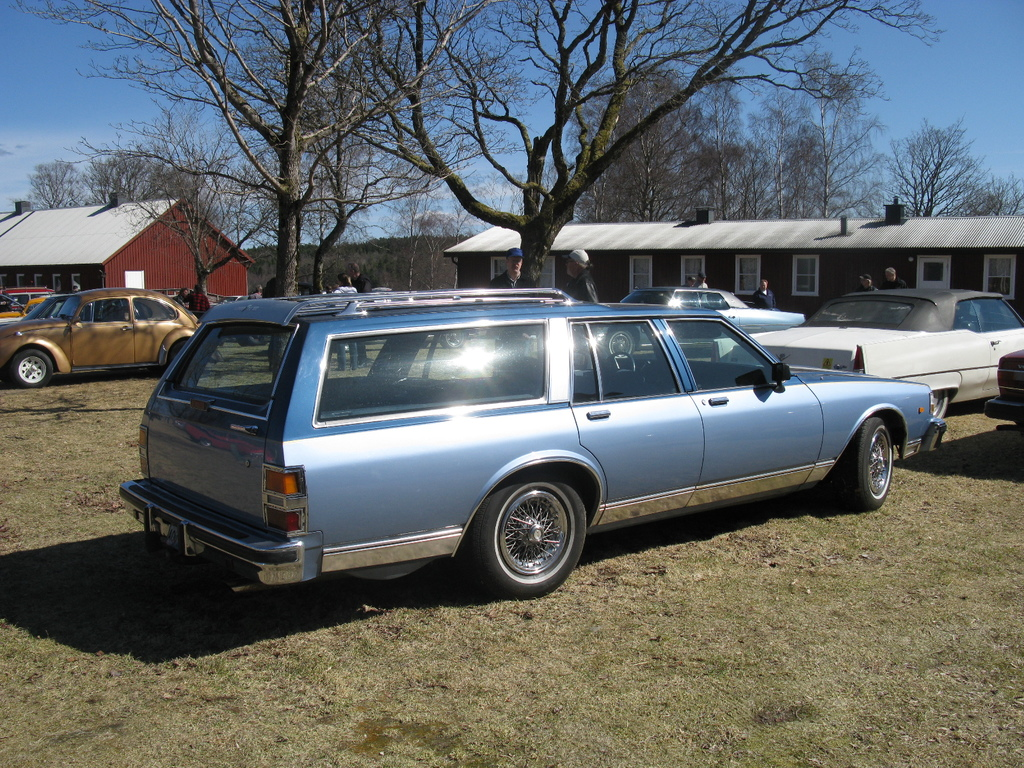Car: (0, 292, 1023, 605)
